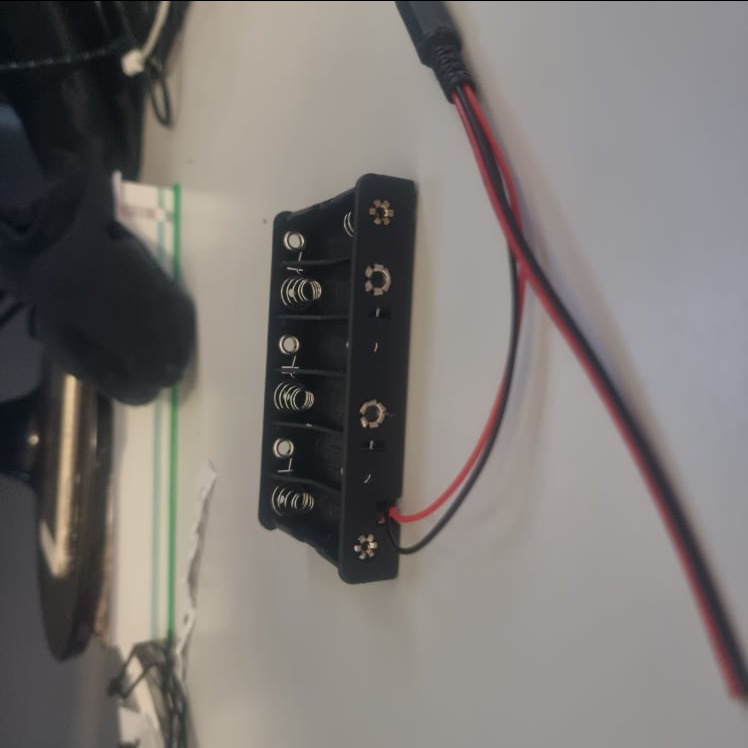BATTERY BOX: (254, 171, 425, 584)
